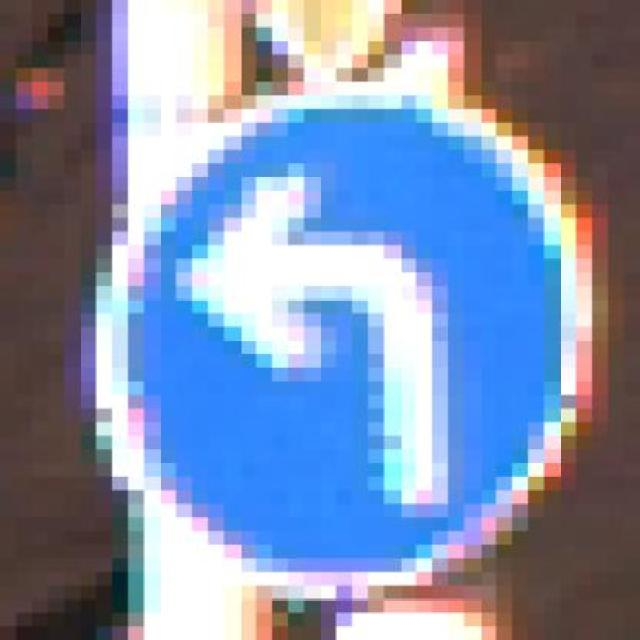Turn left ahead: (48, 95, 624, 613)
